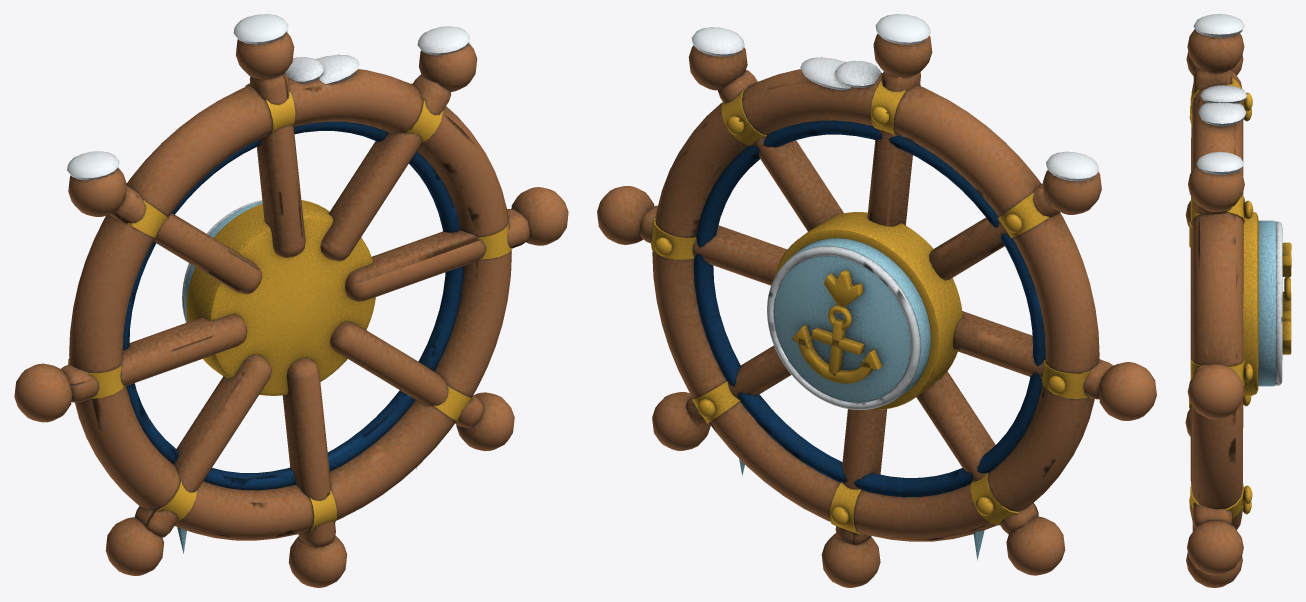
3 views of the same model, side by side, from view 1: azimuth 30°, elevation 25°; view 2: azimuth 150°, elevation 25°; view 3: azimuth 270°, elevation 25° (orthographic). The views are drawn at different scales.
Parts seen in each view (by area): view 1: Colored_glossy_lacquer, Polished_warm_gold, Soft_frosted_snow; view 2: Colored_glossy_lacquer, Polished_warm_gold, Translucent_ice_blue, Soft_frosted_snow; view 3: Colored_glossy_lacquer, Polished_warm_gold, Soft_frosted_snow, Translucent_ice_blue.
Boxes of the visible parts, x1,y1,x2,y2 form: Colored_glossy_lacquer: (14,32,568,587); Polished_warm_gold: (68,83,512,531); Soft_frosted_snow: (67,14,470,322); Colored_glossy_lacquer: (597,33,1156,587); Polished_warm_gold: (651,81,1099,534); Translucent_ice_blue: (739,238,984,560); Soft_frosted_snow: (691,14,1098,409); Colored_glossy_lacquer: (1185,29,1244,587); Polished_warm_gold: (1189,78,1291,518); Soft_frosted_snow: (1193,14,1282,385); Translucent_ice_blue: (1258,220,1276,386).
Bounding box in the file's own units: 1.59 × 1.6 × 0.2827.
Materials: 4 (4 with a texture image).
